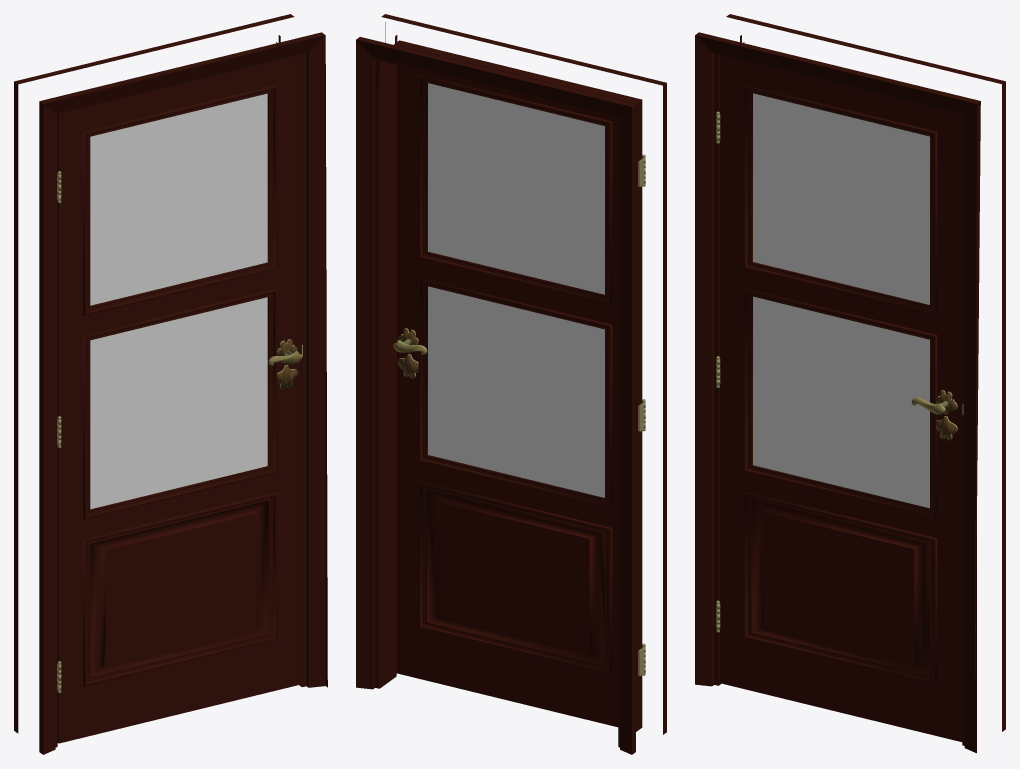
The model's file is WoodenSquaredDoor.fbx.
3 views of the same model, side by side, from view 1: azimuth 30°, elevation 25°; view 2: azimuth 150°, elevation 25°; view 3: azimuth 330°, elevation 25° (orthographic).
Visible parts, largest first — view 1: WoodenSquaredDoor, WoodenKnocker; view 2: WoodenSquaredDoor, WoodenKnocker; view 3: WoodenSquaredDoor, WoodenKnocker.
Boxes of the visible parts, x1=… form: WoodenSquaredDoor: x1=57, y1=55, x2=301, y2=743; WoodenKnocker: x1=14, y1=14, x2=327, y2=754; WoodenSquaredDoor: x1=394, y1=40, x2=642, y2=731; WoodenKnocker: x1=356, y1=14, x2=666, y2=754; WoodenSquaredDoor: x1=719, y1=55, x2=962, y2=741; WoodenKnocker: x1=695, y1=14, x2=1005, y2=753.
Bounding box in the file's own units: 96.5 × 212 × 22.03.
